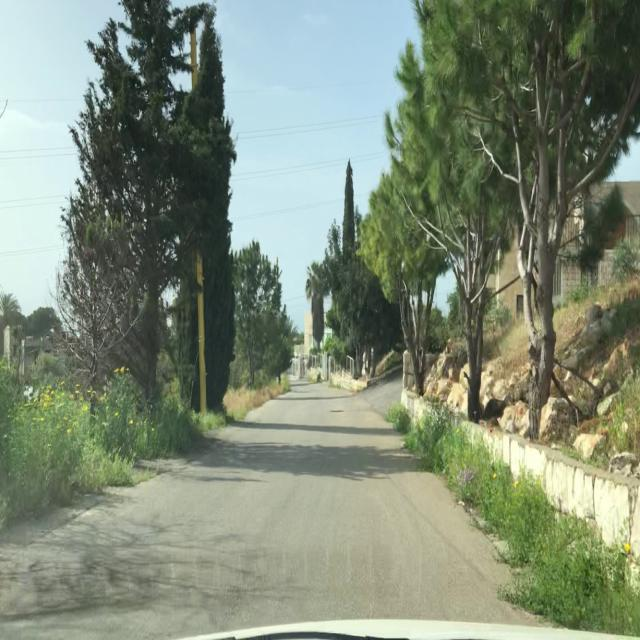Pothole: (330, 409, 344, 413)
